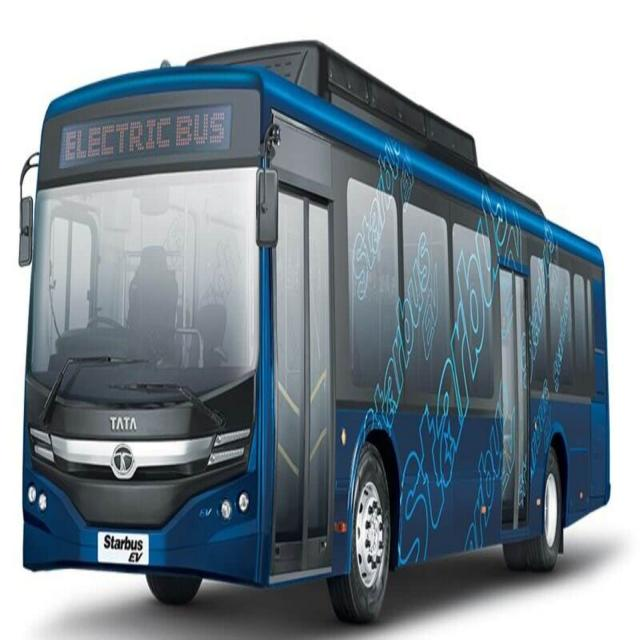bus: (16, 42, 612, 607)
